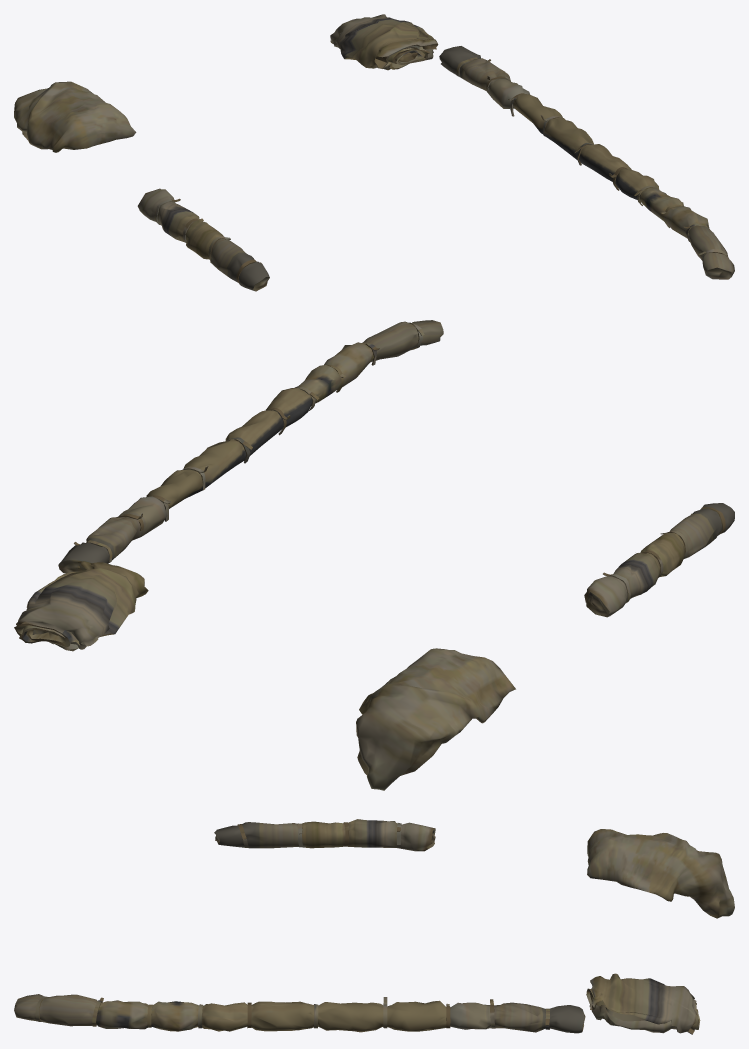
Rendered from pershing_hull_m4.obj.
3 renders of one model, top to bottom at view 1: azimuth 30°, elevation 25°; view 2: azimuth 150°, elevation 25°; view 3: azimuth 270°, elevation 25°, orthographic. The views are drawn at different scales.
Parts seen in each view (by area): view 1: pershing_hull_m4; view 2: pershing_hull_m4; view 3: pershing_hull_m4.
Part boxes in pixels (x1,y1,x2,y2): pershing_hull_m4: (14,14,734,291); pershing_hull_m4: (14,320,734,790); pershing_hull_m4: (14,819,734,1034).
Bounding box in the file's own units: 3.58 × 0.681 × 5.57.
1 material, 1 textured.
